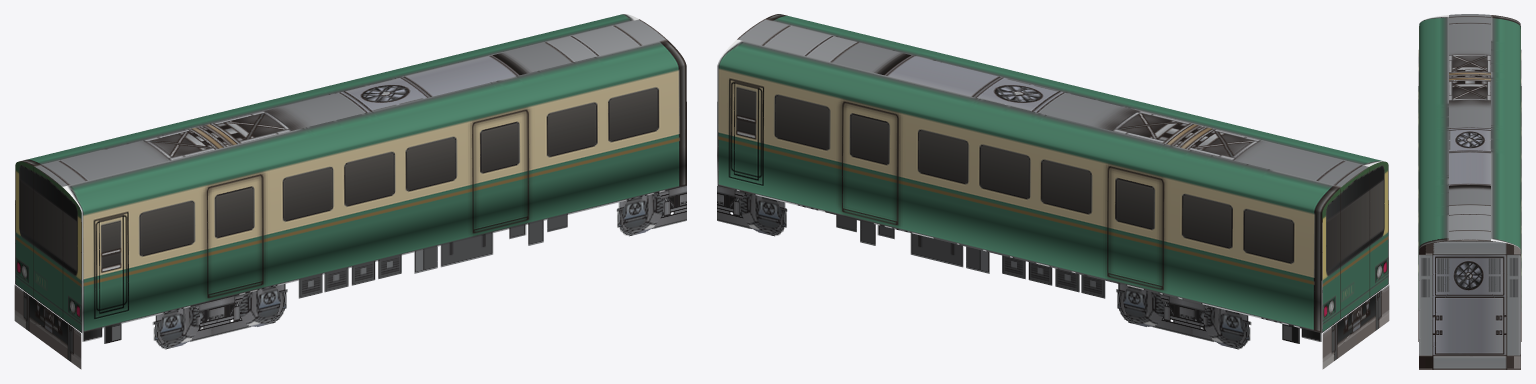
The model's file is car1.glb.
3 renders of one model, left to right at view 1: azimuth 30°, elevation 25°; view 2: azimuth 150°, elevation 25°; view 3: azimuth 270°, elevation 25°, orthographic. The views are drawn at different scales.
Parts seen in each view (by area): view 1: enoden-1000-car1; view 2: enoden-1000-car1; view 3: enoden-1000-car1.
Part boxes in pixels (x1,y1,x2,y2): enoden-1000-car1: (14, 14, 686, 369); enoden-1000-car1: (717, 14, 1389, 369); enoden-1000-car1: (1418, 14, 1521, 369).
Bounding box in the file's own units: 12.73 × 3.4 × 2.45.
Materials: 8 (7 with a texture image).
